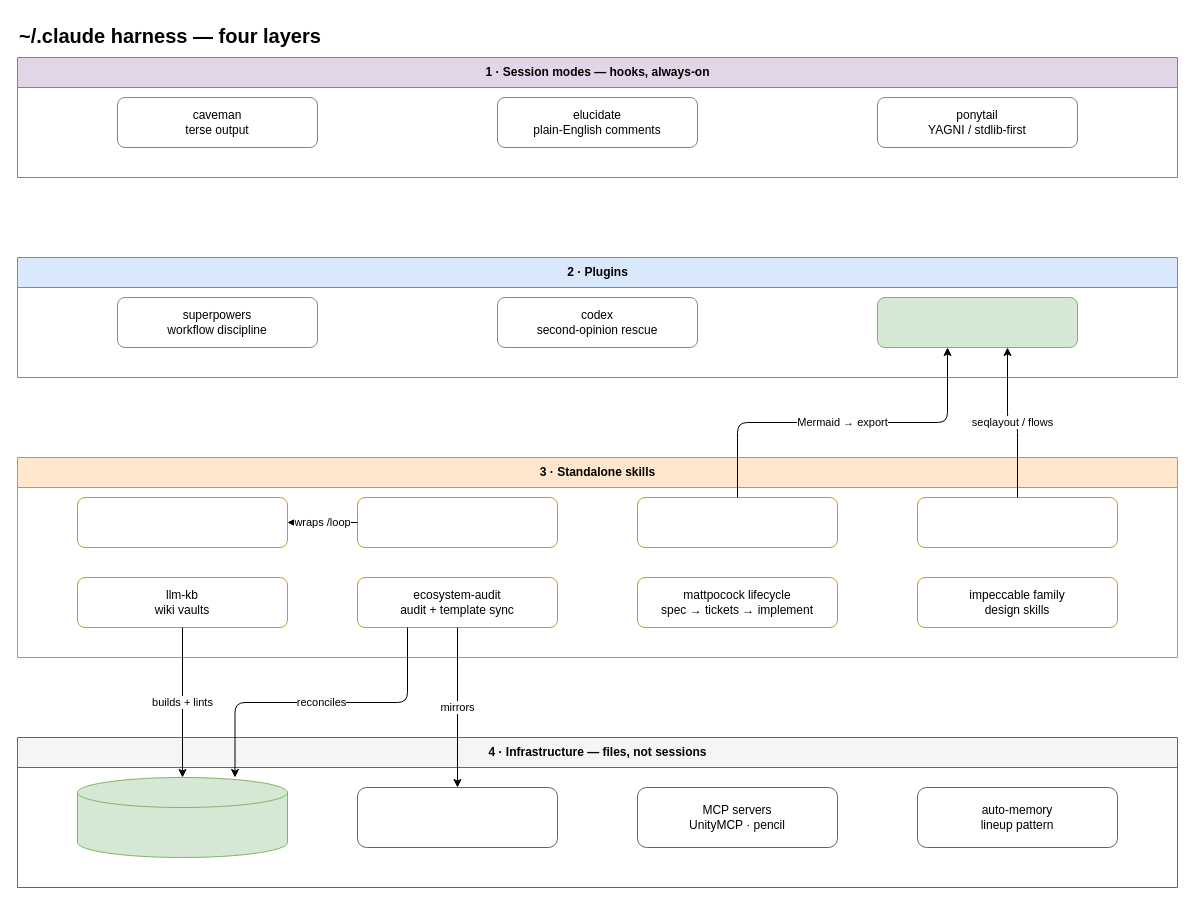
Some shapes in this 1195 by 905 pixel diagram are drawn without their labels. Here are the shapes that lost their labels. From the top down, the centre of each, then its label:
point 977,322: drawio ★ new diagram export layer
point 182,522: preset prompt library + loop bodies
point 457,522: relay self-relaying loops
point 737,522: /hp happy-path MVD
point 1017,522: /trace flow tracing
point 182,817: ecosystem-kb vault (this map)
point 457,817: template/IN USE → MY-SKILLS repo
